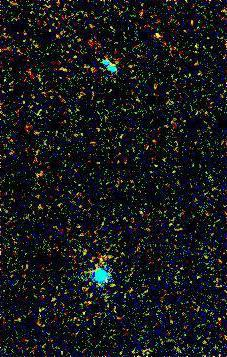star: (143, 18, 173, 48)
